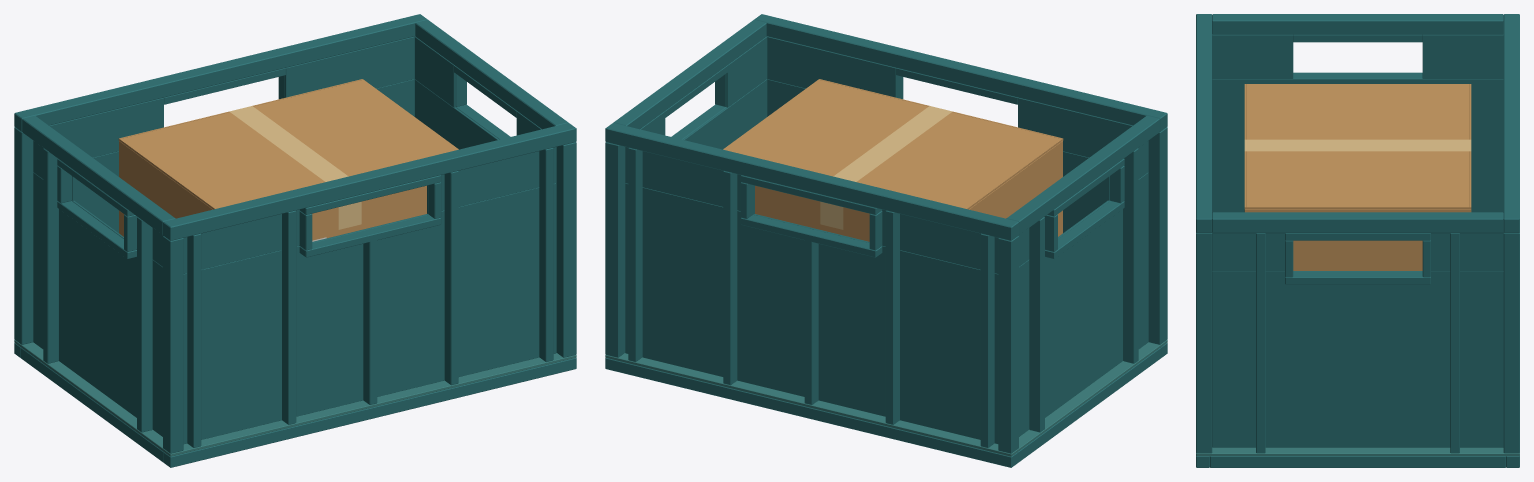
Rendered from sealed-parcel-tote-fixture.glb.
3 views of the same model, side by side, from view 1: azimuth 30°, elevation 25°; view 2: azimuth 150°, elevation 25°; view 3: azimuth 270°, elevation 25° (orthographic). The views are drawn at different scales.
Parts seen in each view (by area): view 1: sealed-parcel-tote-fixture__batch_00, sealed-parcel-tote-fixture__batch_03, sealed-parcel-tote-fixture__batch_01, sealed-parcel-tote-fixture__batch_02; view 2: sealed-parcel-tote-fixture__batch_00, sealed-parcel-tote-fixture__batch_03, sealed-parcel-tote-fixture__batch_01, sealed-parcel-tote-fixture__batch_02; view 3: sealed-parcel-tote-fixture__batch_00, sealed-parcel-tote-fixture__batch_03, sealed-parcel-tote-fixture__batch_02, sealed-parcel-tote-fixture__batch_01.
Part boxes in pixels (x1,y1,x2,y2): sealed-parcel-tote-fixture__batch_00: [14, 14, 576, 467]; sealed-parcel-tote-fixture__batch_03: [119, 79, 458, 241]; sealed-parcel-tote-fixture__batch_01: [14, 339, 576, 456]; sealed-parcel-tote-fixture__batch_02: [118, 139, 214, 236]; sealed-parcel-tote-fixture__batch_00: [605, 14, 1167, 467]; sealed-parcel-tote-fixture__batch_03: [723, 79, 1062, 241]; sealed-parcel-tote-fixture__batch_01: [605, 339, 1167, 456]; sealed-parcel-tote-fixture__batch_02: [967, 139, 1063, 236]; sealed-parcel-tote-fixture__batch_00: [1196, 14, 1519, 467]; sealed-parcel-tote-fixture__batch_03: [1244, 84, 1471, 207]; sealed-parcel-tote-fixture__batch_02: [1244, 207, 1471, 270]; sealed-parcel-tote-fixture__batch_01: [1196, 447, 1519, 456].
Bounding box in the file's own units: 0.6 × 0.34 × 0.4.
